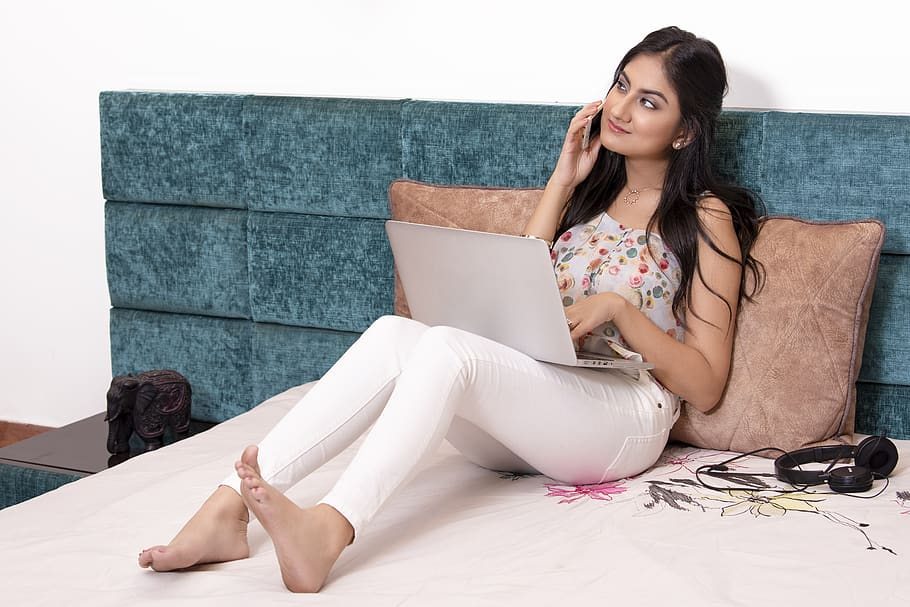person: (537, 25, 732, 248)
